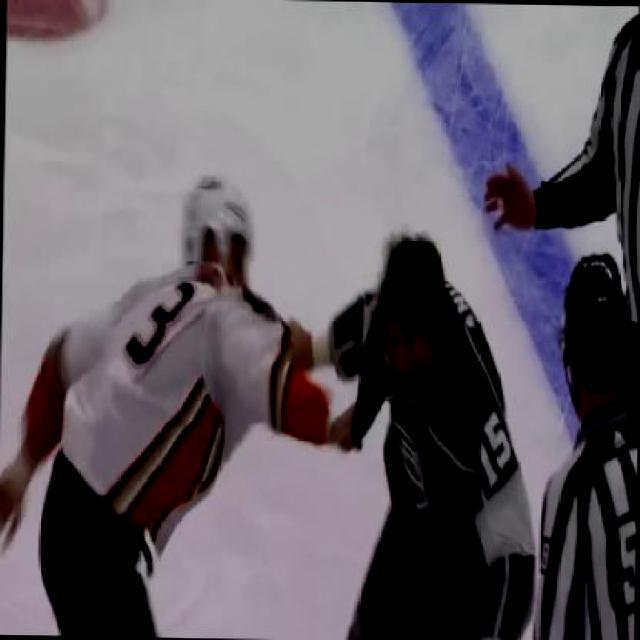fight: (0, 156, 442, 638), (148, 164, 544, 638)
